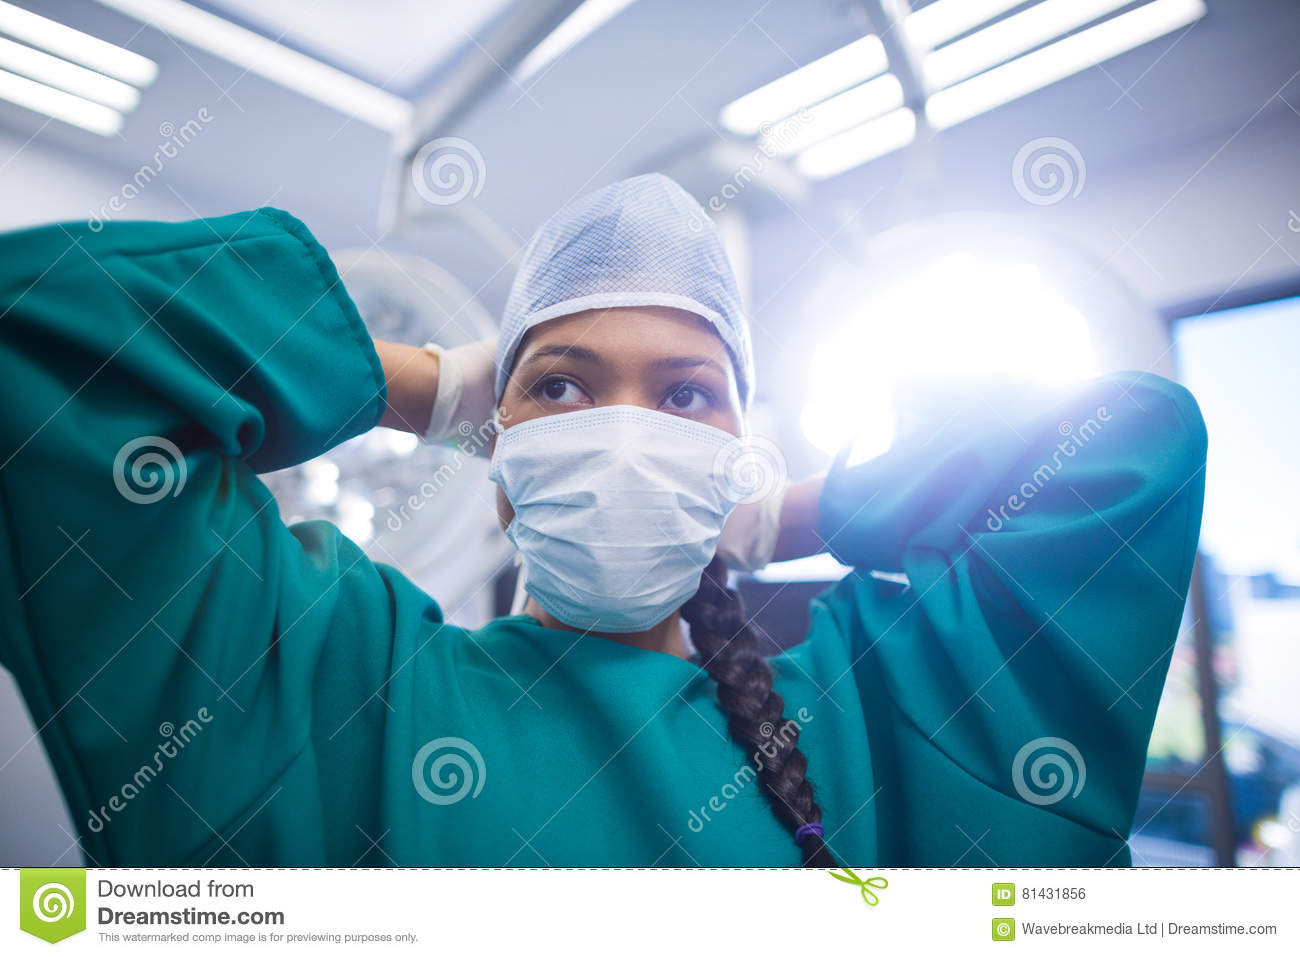mask: (497, 417, 750, 660)
